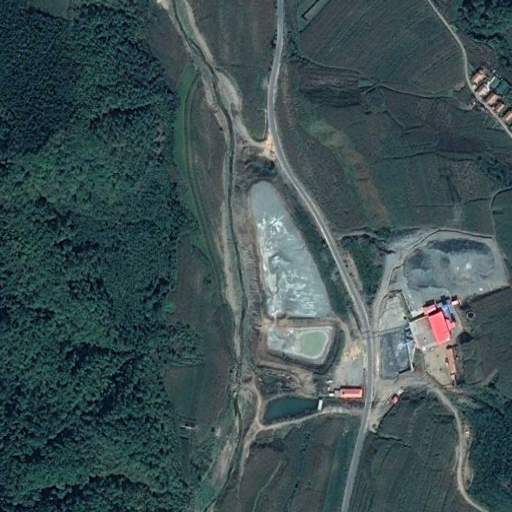tp: (246, 185, 338, 369)
